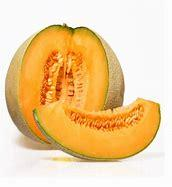Melon Ripe: (5, 23, 125, 146), (33, 98, 161, 161)
